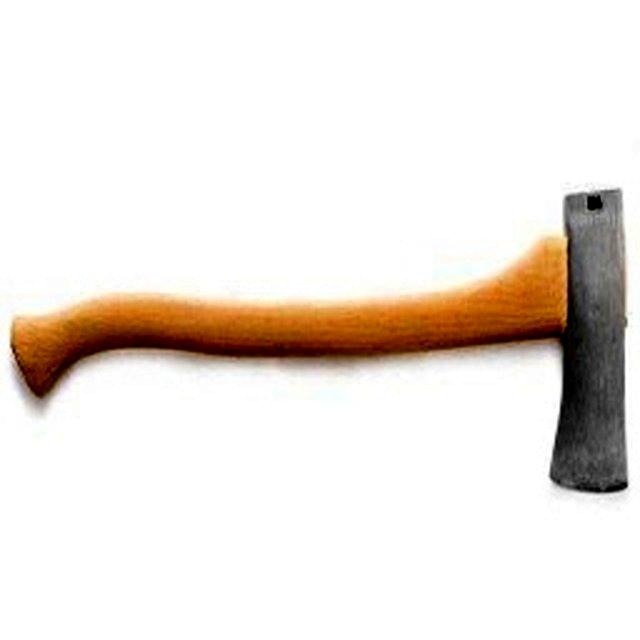ax: (0, 169, 640, 504)
